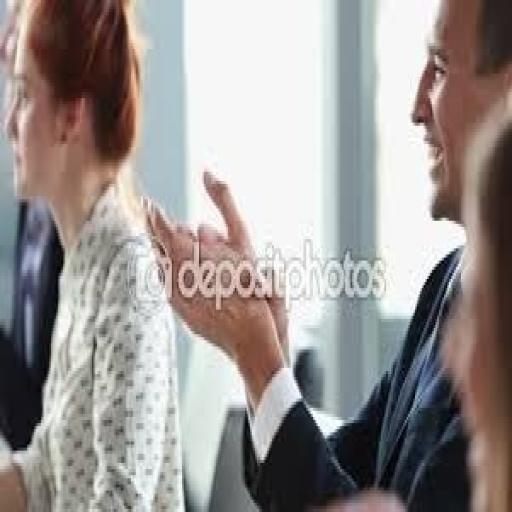clapping: (140, 0, 510, 509)
